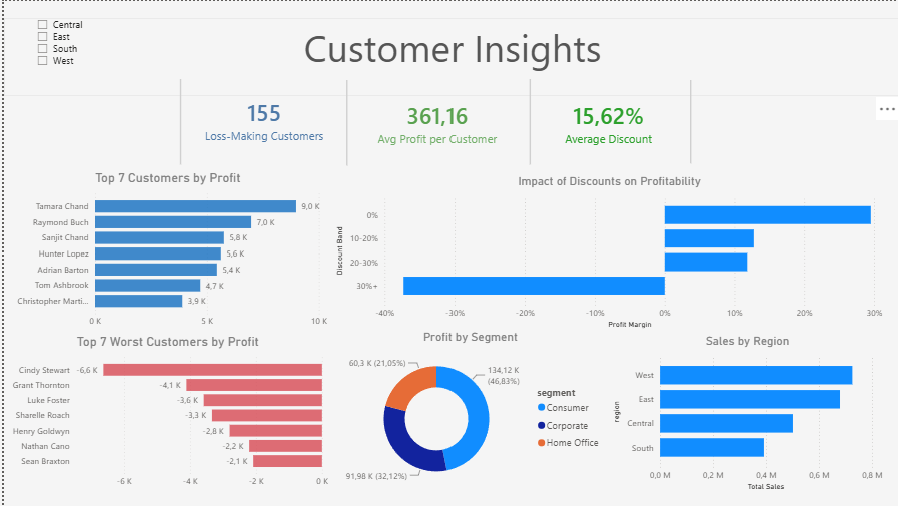

This screenshot's page, from the dashboard's own definition file:
{"tool":"powerbi","page":{"name":"Customer","canvas":[1280,720],"ordinal":1},"visuals":[{"type":"textbox","box":[0,24.9,1280.5,111.2],"z":0},{"type":"cardVisual","fields":{"Data":["clean_orders.Loss Customers"]},"box":[256.7,100.7,229.8,140.9],"z":1000},{"type":"cardVisual","fields":{"Data":["clean_orders.Average Discount"]},"box":[753.2,104,219.8,137.6],"z":2000},{"type":"cardVisual","fields":{"Data":["clean_orders.Avg Profit per Customer"]},"box":[491.5,104,255,140.9],"z":3000},{"type":"shape","box":[486.5,112.4,5,122.5],"z":4000},{"type":"shape","box":[246.6,110.7,10.1,122.5],"z":5000},{"type":"shape","box":[973,112.4,13.4,119.1],"z":6000},{"type":"shape","box":[746.5,110.7,6.7,122.5],"z":7000},{"type":"slicer","fields":{"Values":["clean_orders.region"]},"box":[35.1,20.5,96.6,83.4],"z":8000},{"type":"barChart","title":"Top 7 Customers by Profit","fields":{"Category":["clean_orders.customer_name"],"Y":["clean_orders.Total Profit"]},"box":[0,241.6,468,233.2],"z":9000},{"type":"barChart","title":"Top 7 Worst Customers by Profit","fields":{"Category":["clean_orders.customer_name"],"Y":["clean_orders.Total Profit"]},"box":[0,474.8,468,228.2],"z":10000},{"type":"donutChart","title":"Profit by Segment","fields":{"Category":["clean_orders.segment"],"Y":["clean_orders.Total Profit"]},"box":[468,468,394.2,234.9],"z":10001},{"type":"barChart","title":"Sales by Region","fields":{"Category":["clean_orders.region"],"Y":["clean_orders.Total Sales"]},"box":[862.3,474.8,395.9,228.2],"z":10002},{"type":"barChart","title":"Impact of Discounts on Profitability","fields":{"Y":["clean_orders.Profit Margin"],"Category":["clean_orders.Discount Band"]},"box":[468.3,247.3,790.2,223.9],"z":10003}]}

Visuals, with their boxes in screenshot pixels (x1, y1, x2, y2), scaled from the page's 1280x720 canvas onto the 898x506 screenshot:
textbox: box(0, 17, 897, 96)
cardVisual - clean_orders.Loss Customers: box(180, 71, 341, 170)
cardVisual - clean_orders.Average Discount: box(528, 73, 683, 170)
cardVisual - clean_orders.Avg Profit per Customer: box(345, 73, 524, 172)
shape: box(341, 79, 345, 165)
shape: box(173, 78, 180, 164)
shape: box(683, 79, 692, 163)
shape: box(524, 78, 528, 164)
slicer - clean_orders.region: box(25, 14, 92, 73)
"Top 7 Customers by Profit" barChart: box(0, 170, 328, 334)
"Top 7 Worst Customers by Profit" barChart: box(0, 334, 328, 494)
"Profit by Segment" donutChart: box(328, 329, 605, 494)
"Sales by Region" barChart: box(605, 334, 883, 494)
"Impact of Discounts on Profitability" barChart: box(329, 174, 883, 331)
